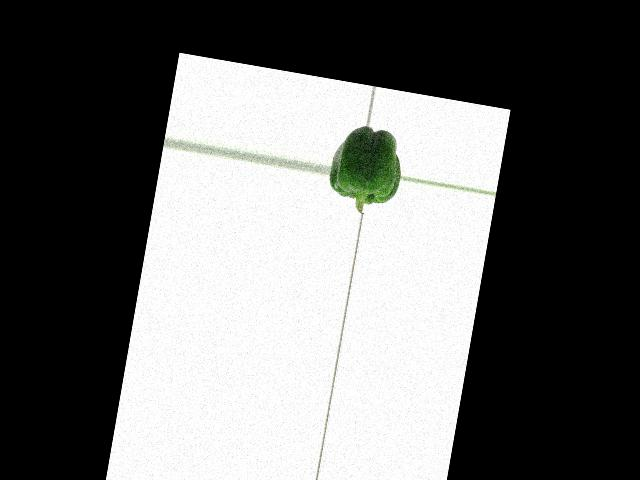bell_pepper: (326, 121, 407, 217)
